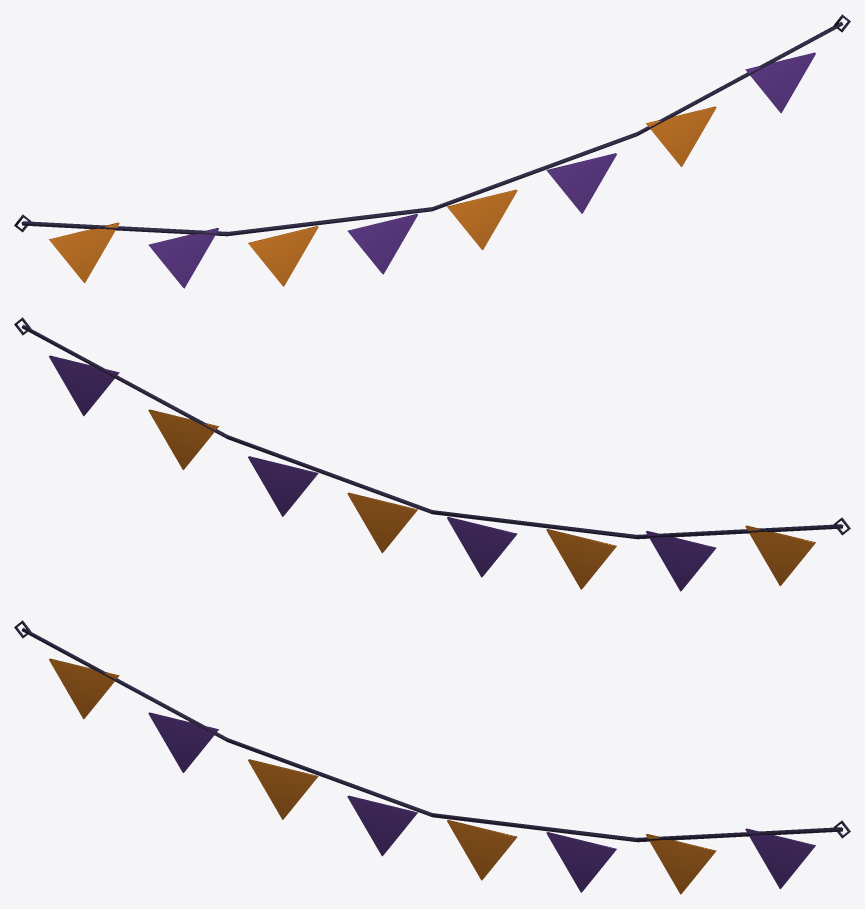
Rendered from bunting_low.glb.
3 views of the same model, one above another, from view 1: azimuth 30°, elevation 25°; view 2: azimuth 150°, elevation 25°; view 3: azimuth 330°, elevation 25° (orthographic).
Bounding box in the file's own units: 4.09 × 0.6899 × 0.02.
